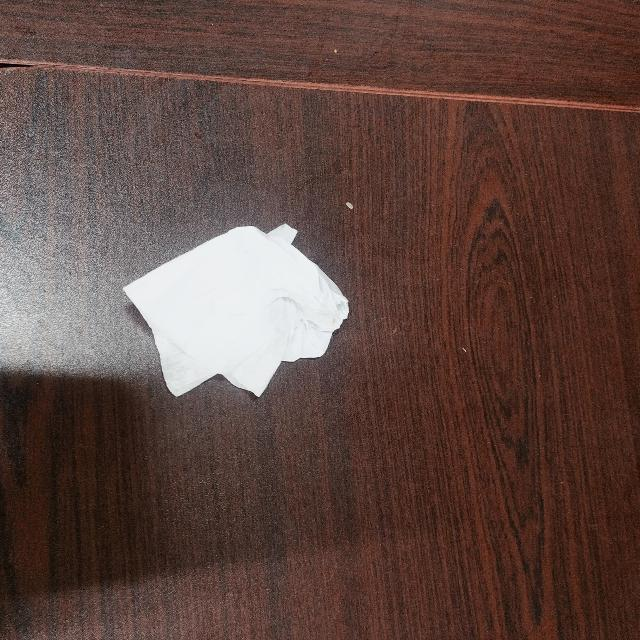kitchen paper: (115, 215, 356, 404)
